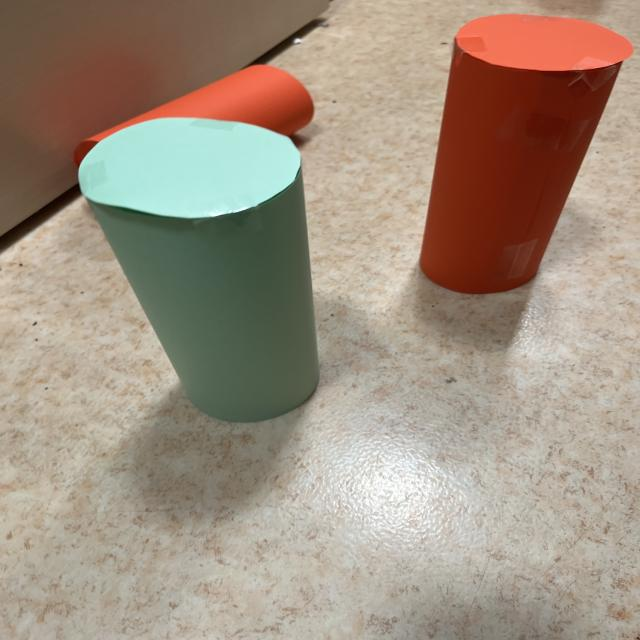meta: (78, 117, 319, 422)
przeszkoda: (420, 15, 632, 294), (74, 65, 314, 166)
